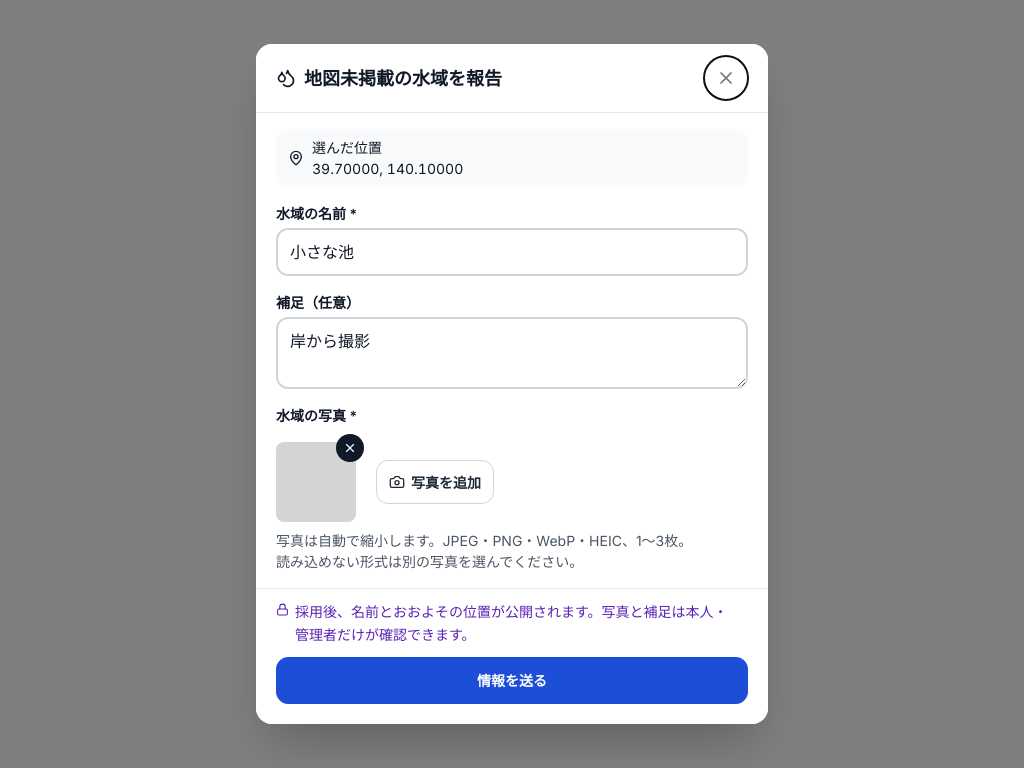
Scenario: WaterReportSheet › keeps failed input visible and retries the same report without reuploading
Earlier steps of the test are not shown.
Later steps or results of the test are not shown.
Click the button with test id "water-report-submit": {"x": 512, "y": 680} [276,657,748,704]
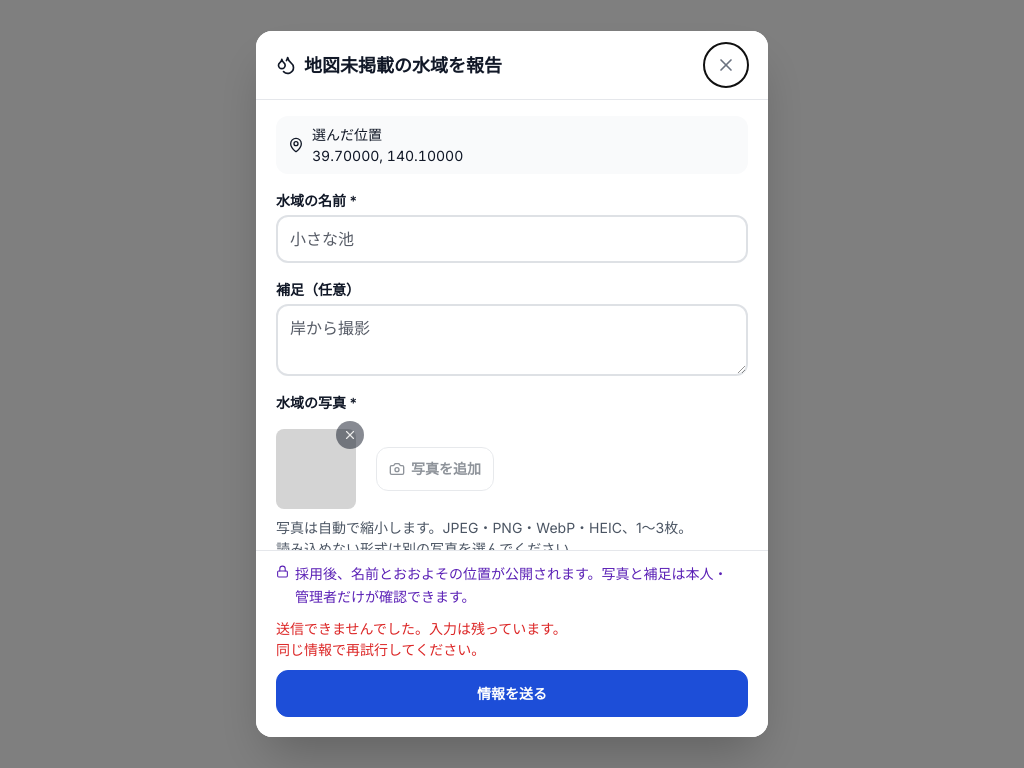
Check: the field with test id "water-report-name" holds "小さな池", box [276,215,748,263]
Check: the message shows "入力は残っています", box [276,620,567,658]
